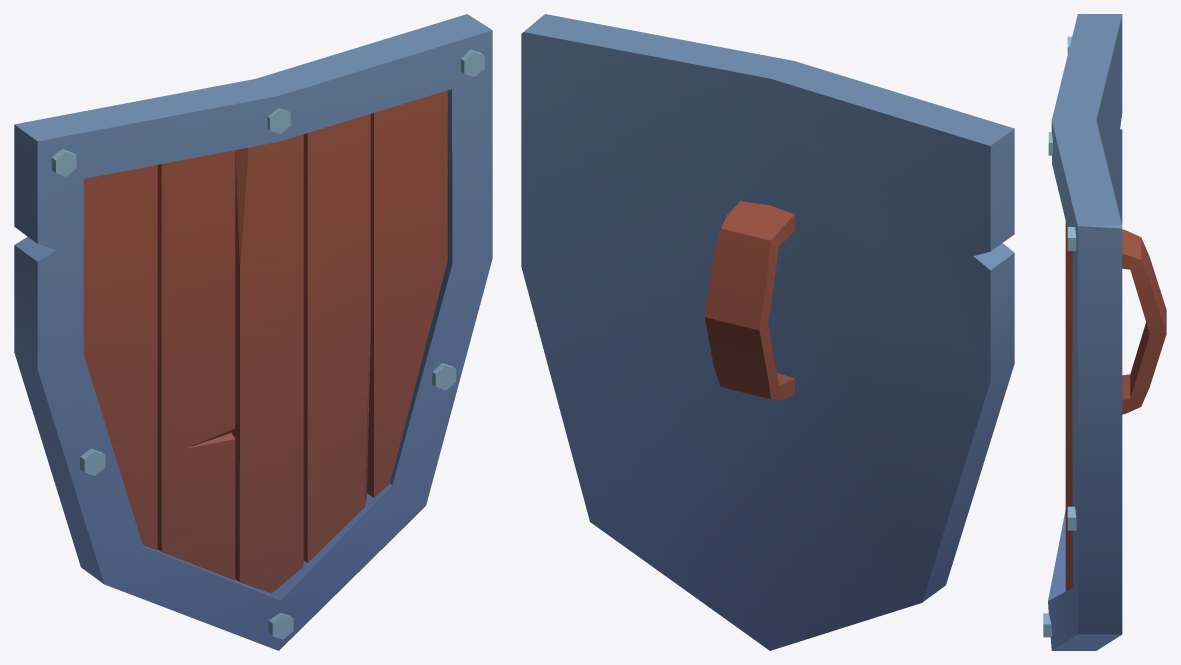
File: Proto_Shield_01.fbx
The picture shows the model from 3 angles, left to right: view 1: azimuth 30°, elevation 25°; view 2: azimuth 150°, elevation 25°; view 3: azimuth 270°, elevation 25°; orthographic projection. The views are drawn at different scales.
Visible parts, largest first — view 1: Proto_Shield_01; view 2: Proto_Shield_01; view 3: Proto_Shield_01.
Part boxes in pixels (x1=…): Proto_Shield_01: x1=14, y1=14, x2=492, y2=650; Proto_Shield_01: x1=521, y1=14, x2=1014, y2=650; Proto_Shield_01: x1=1043, y1=14, x2=1166, y2=650.
Bounding box in the file's own units: 51.98 × 60.59 × 12.73.
